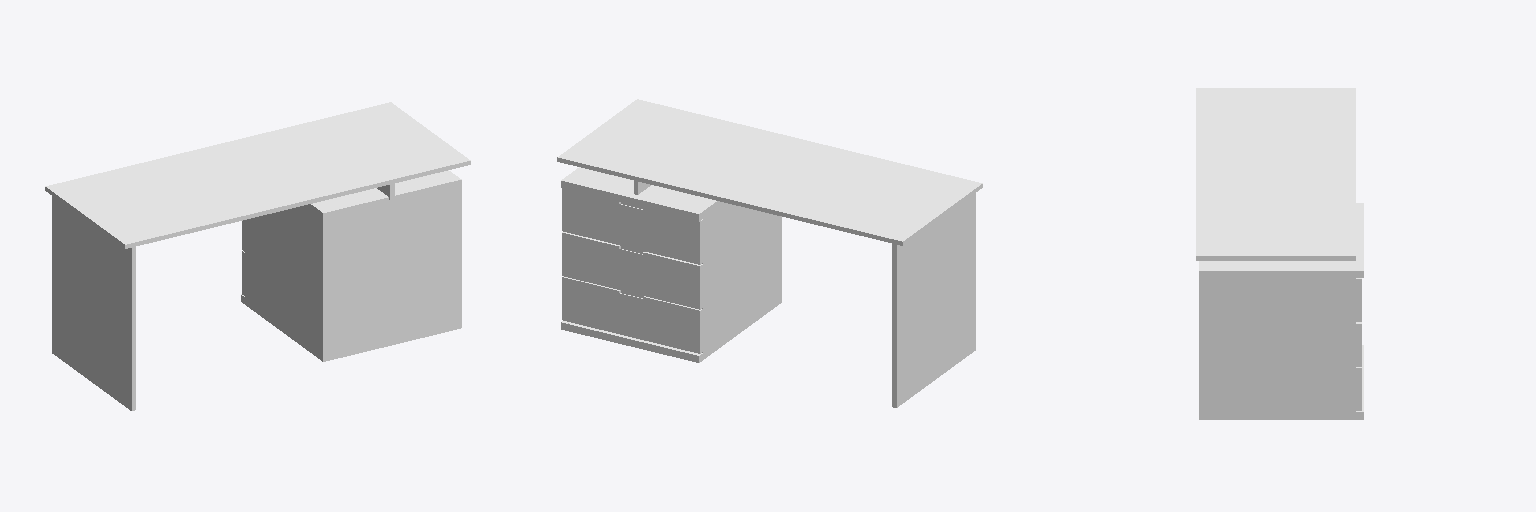
File: scrivania.obj
3 renders of one model, left to right at view 1: azimuth 30°, elevation 25°; view 2: azimuth 150°, elevation 25°; view 3: azimuth 270°, elevation 25°, orthographic.
Visible parts, largest first — view 1: scrivania.2; view 2: scrivania.2; view 3: scrivania.2.
Part boxes in pixels (left/top/right/bottom): scrivania.2: left=45, top=102, right=470, bottom=410; scrivania.2: left=557, top=99, right=982, bottom=407; scrivania.2: left=1196, top=88, right=1363, bottom=419.
Bounding box in the file's own units: 150 × 69.71 × 63.15.